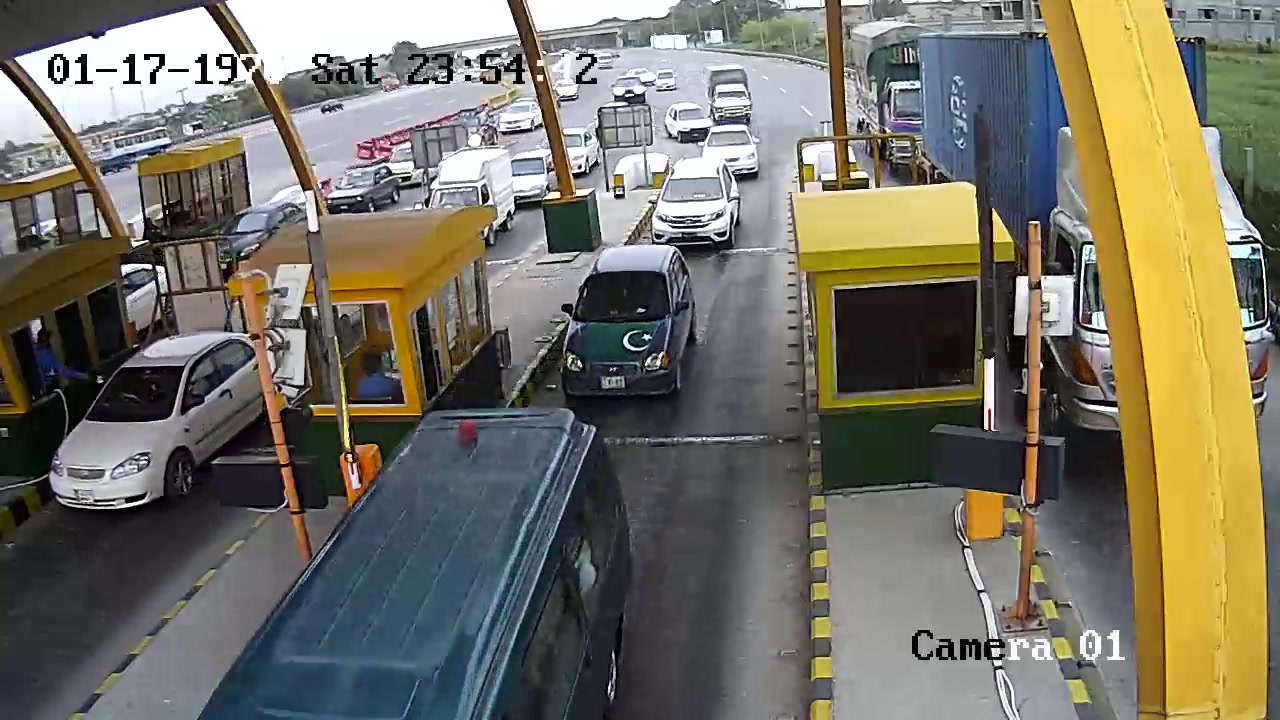F1: (555, 242, 699, 396)
